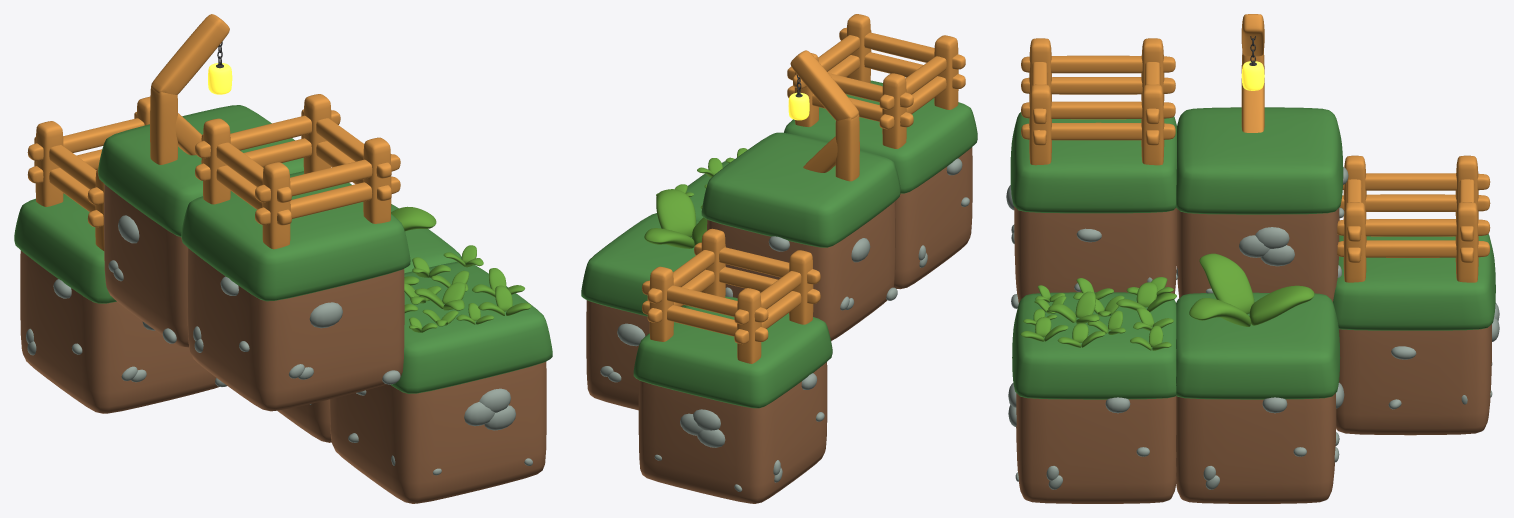
The model's file is Landscape.glb.
3 renders of one model, left to right at view 1: azimuth 30°, elevation 25°; view 2: azimuth 150°, elevation 25°; view 3: azimuth 270°, elevation 25°, orthographic. The views are drawn at different scales.
Parts seen in each view (by area): view 1: Cube.087, Cube.021, Cube.065, Cube.072, Cube.020, Cube.047, Cube.048, Cube.064, Cube.044, Cube.110, Cube.111, Cube.046 (+23 smaller); view 2: Cube.065, Cube.047, Cube.064, Cube.048, Cube.087, Cube.072, Cube.003, Cube.004, Cube.044, Cube.002, Cube.112, Cube.046 (+28 smaller); view 3: Cube.047, Cube.021, Cube.004, Cube.065, Cube.003, Cube.020, Cube.087, Cube.072, Cube.064, Cube.048, Cube.106, Cube.104 (+29 smaller).
Part boxes in pixels (bbox=[...]): Cube.087: bbox=[187, 248, 404, 411]; Cube.021: bbox=[329, 362, 546, 503]; Cube.065: bbox=[20, 250, 219, 413]; Cube.072: bbox=[181, 171, 410, 301]; Cube.020: bbox=[390, 262, 552, 393]; Cube.047: bbox=[98, 105, 303, 236]; Cube.048: bbox=[104, 184, 188, 347]; Cube.064: bbox=[14, 193, 116, 303]; Cube.044: bbox=[151, 14, 229, 94]; Cube.110: bbox=[255, 154, 400, 202]; Cube.111: bbox=[255, 176, 400, 224]; Cube.046: bbox=[150, 87, 177, 164]; Cube.065: bbox=[638, 362, 827, 503]; Cube.047: bbox=[701, 132, 900, 247]; Cube.064: bbox=[633, 296, 832, 408]; Cube.048: bbox=[707, 201, 895, 340]; Cube.087: bbox=[894, 147, 972, 289]; Cube.072: bbox=[784, 80, 977, 193]; Cube.003: bbox=[581, 213, 699, 316]; Cube.004: bbox=[586, 300, 649, 410]; Cube.044: bbox=[790, 50, 858, 120]; Cube.002: bbox=[656, 189, 696, 237]; Cube.112: bbox=[642, 280, 768, 322]; Cube.046: bbox=[835, 114, 859, 181]; Cube.047: bbox=[1176, 107, 1343, 214]; Cube.021: bbox=[1016, 393, 1176, 503]; Cube.004: bbox=[1176, 393, 1336, 503]; Cube.065: bbox=[1336, 324, 1491, 435]; Cube.003: bbox=[1176, 292, 1340, 399]; Cube.020: bbox=[1012, 292, 1176, 399]; Cube.087: bbox=[1014, 206, 1176, 302]; Cube.072: bbox=[1010, 112, 1176, 213]; Cube.064: bbox=[1333, 234, 1495, 330]; Cube.048: bbox=[1177, 208, 1339, 301]; Cube.106: bbox=[1021, 55, 1175, 73]; Cube.104: bbox=[1021, 101, 1175, 119].
Size of the model in its own units: 9.33 by 12.22 by 13.67.
